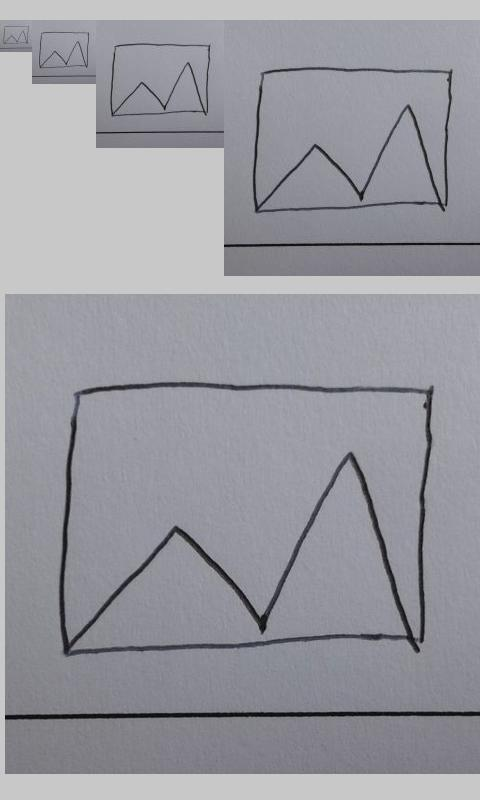image_view: (56, 376, 433, 655), (251, 67, 452, 215), (109, 42, 212, 117), (39, 31, 89, 68), (3, 25, 29, 44)
